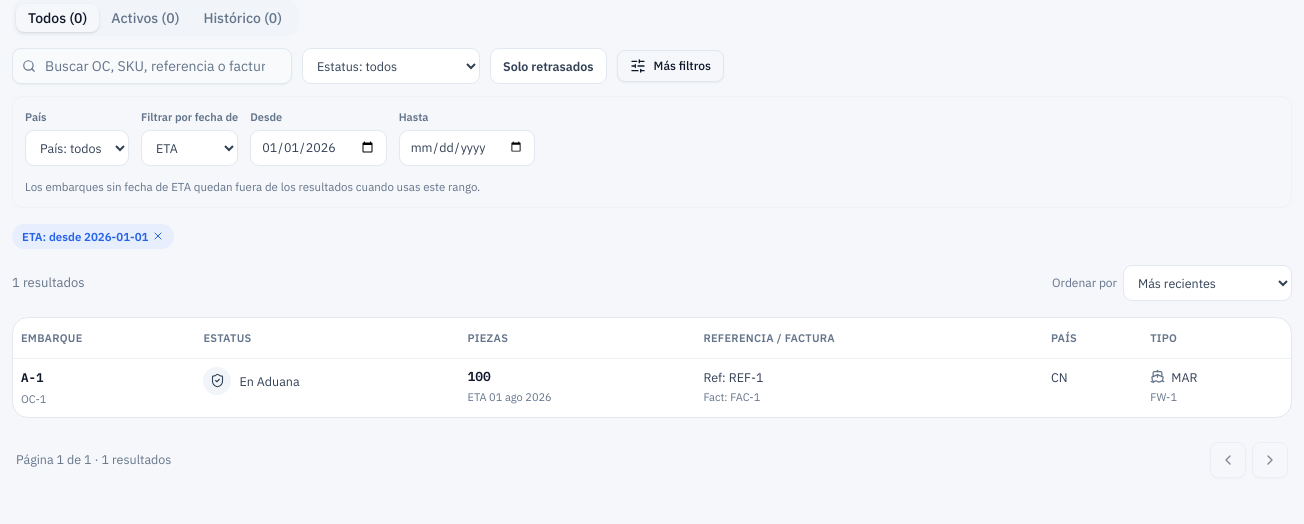
Test: EmbarquesView › fix M8: guard de rango de fecha invertido › editar 'Hasta' a una fecha anterior a 'Desde' congela la tabla (NO la reemplaza por error) y no dispara un fetch nuevo
The image size is (1304, 524).
Check: the link "A-1" is shown, box [21,366,44,386]
In the date field labelled "Hasta": [467, 148] box [399,130,535,166], type "2025-01-01"
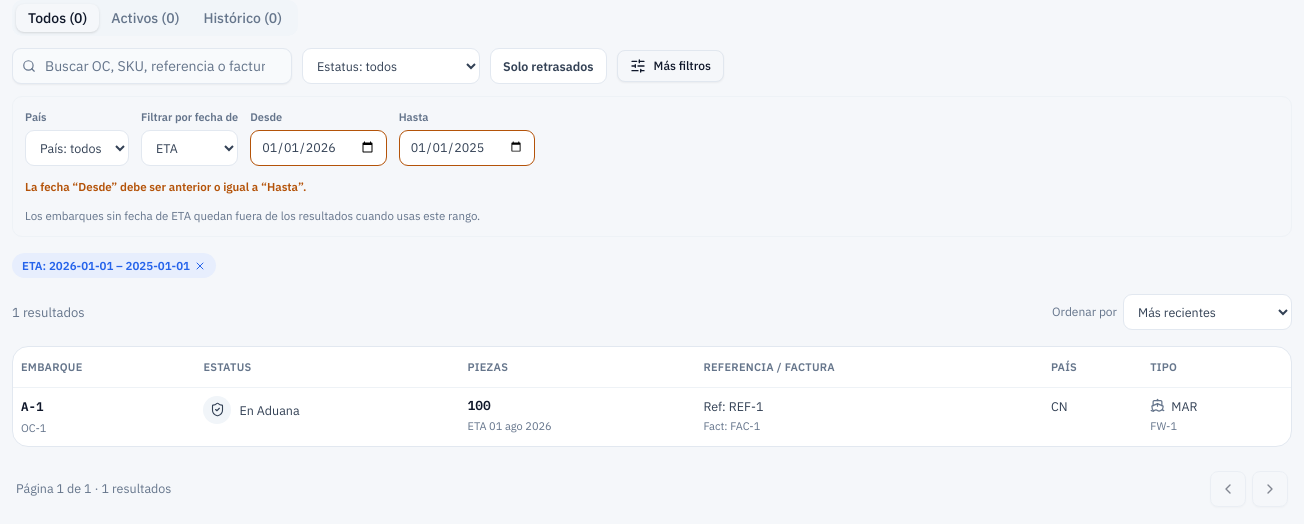
Check: the link "A-1" is shown, box [21,396,44,416]
Check: the message "La fecha “Desde” debe ser anterior o igual a “Hasta”." is shown, box [25,178,306,194]
